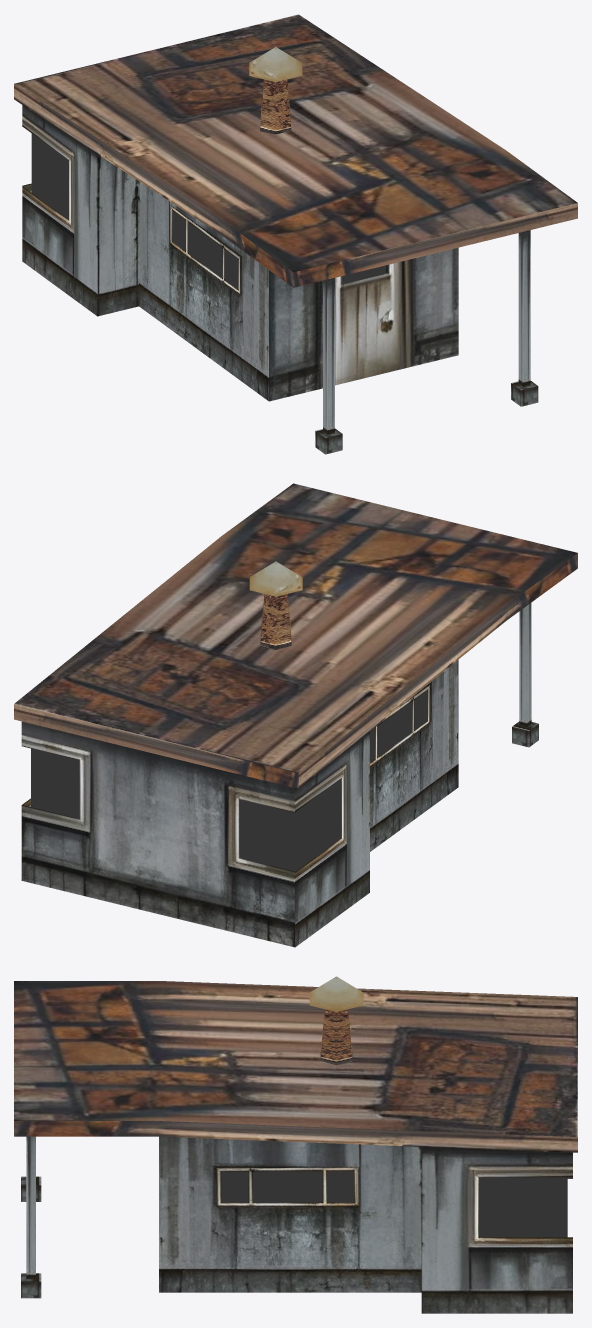
Rendered from singlecivlivingd_hdtex.glb.
3 views of the same model, one above another, from view 1: azimuth 30°, elevation 25°; view 2: azimuth 150°, elevation 25°; view 3: azimuth 270°, elevation 25° (orthographic).
Parts seen in each view (by area): view 1: Box02, LitWin_SingleCivLivingD; view 2: Box02, LitWin_SingleCivLivingD; view 3: Box02, LitWin_SingleCivLivingD.
Part boxes in pixels (left/top/right/bottom): Box02: left=14, top=14, right=577, bottom=454; LitWin_SingleCivLivingD: left=31, top=133, right=386, bottom=289; Box02: left=14, top=483, right=577, bottom=947; LitWin_SingleCivLivingD: left=31, top=690, right=427, bottom=871; Box02: left=14, top=976, right=577, bottom=1313; LitWin_SingleCivLivingD: left=221, top=1171, right=567, bottom=1237.
Bounding box in the file's own units: 4.16 × 3.73 × 7.07.
1 material, 1 textured.
